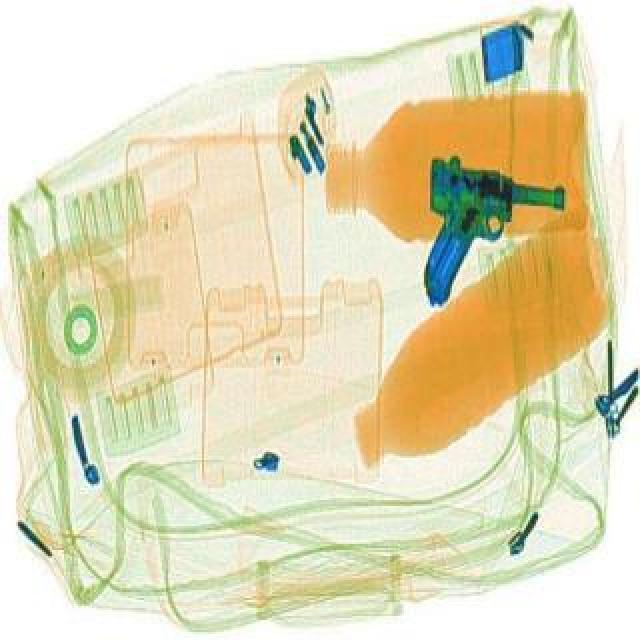gun: (404, 148, 568, 320)
